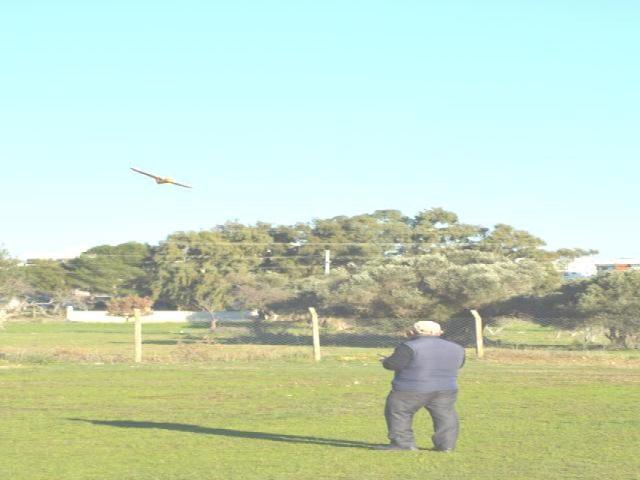iha: (130, 168, 194, 188)
